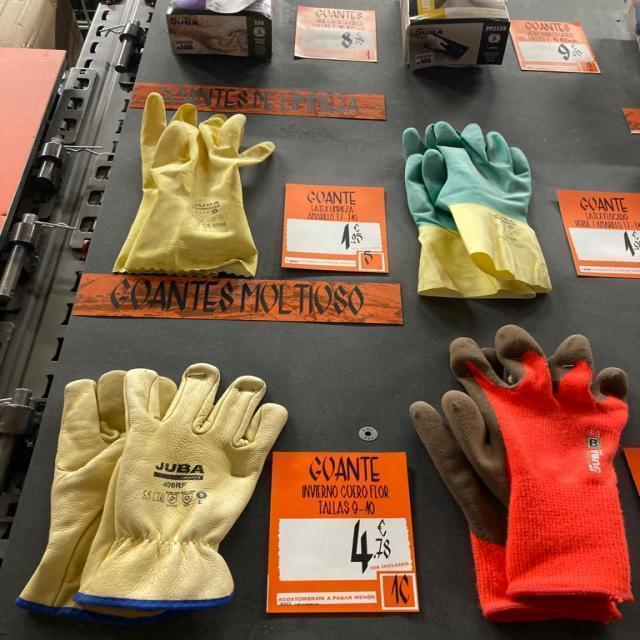gloved_hand: (14, 352, 291, 621), (400, 320, 640, 618), (109, 80, 280, 276), (391, 112, 562, 306)
